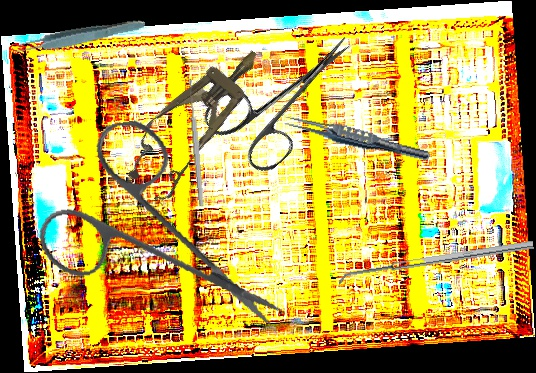Iris Scissors: (21, 100, 284, 362), (198, 6, 378, 182)
Spatula Surgical: (336, 240, 536, 288)
Speculum: (113, 30, 281, 208)
Surgical Spoon: (186, 77, 206, 208)
Tissue Forceps: (280, 111, 433, 165), (11, 14, 147, 58)
